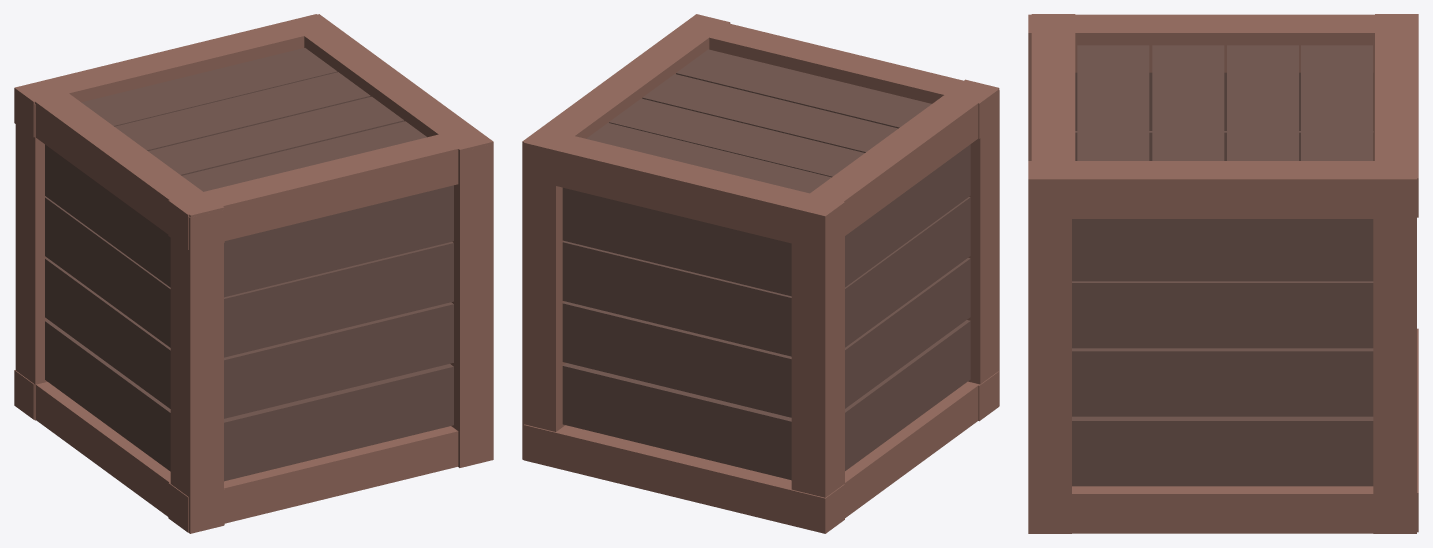
File: western_cube.fbx
3 views of the same model, side by side, from view 1: azimuth 30°, elevation 25°; view 2: azimuth 150°, elevation 25°; view 3: azimuth 270°, elevation 25° (orthographic). The views are drawn at different scales.
Parts seen in each view (by area): view 1: pCube4, pCube21, pCube20, pCube13, pCube19, pCube18, pCube3, pCube12, pCube9, pCube11, pCube25, pCube24 (+10 smaller); view 2: pCube11, pCube17, pCube16, pCube15, pCube10, pCube5, pCube14, pCube9, pCube2, pCube13, pCube25, pCube24 (+10 smaller); view 3: pCube29, pCube28, pCube27, pCube6, pCube26, pCube7, pCube3, pCube2, pCube9, pCube30, pCube31, pCube32 (+4 smaller).
Part boxes in pixels (box(x1,y1,x2,y2)): pCube4: box(170, 209, 223, 533); pCube21: box(224, 364, 453, 481); pCube20: box(224, 302, 453, 418); pCube13: box(168, 133, 458, 249); pCube19: box(224, 242, 453, 357); pCube18: box(224, 185, 453, 297); pCube3: box(450, 144, 493, 467); pCube12: box(168, 426, 458, 532); pCube9: box(17, 80, 224, 242); pCube11: box(14, 14, 328, 137); pCube25: box(45, 320, 170, 471); pCube24: box(45, 258, 170, 408); pCube11: box(523, 136, 844, 251); pCube17: box(562, 363, 791, 480); pCube16: box(562, 301, 791, 417); pCube15: box(562, 241, 791, 356); pCube10: box(523, 424, 844, 533); pCube5: box(791, 237, 844, 497); pCube14: box(562, 187, 791, 296); pCube9: box(791, 79, 999, 235); pCube2: box(522, 144, 565, 459); pCube13: box(680, 16, 998, 138); pCube25: box(845, 320, 970, 470); pCube24: box(845, 258, 970, 408); pCube29: box(1072, 416, 1373, 486); pCube28: box(1072, 348, 1373, 416); pCube27: box(1072, 281, 1373, 348); pCube6: box(1028, 161, 1416, 218); pCube26: box(1072, 219, 1373, 281); pCube7: box(1028, 486, 1416, 533); pCube3: box(1028, 182, 1071, 533); pCube2: box(1373, 182, 1416, 533); pCube9: box(1028, 14, 1416, 72); pCube30: box(1077, 45, 1149, 160); pCube31: box(1152, 45, 1224, 160); pCube32: box(1227, 45, 1298, 160).
Size of the model in its own units: 2.75 by 2.75 by 2.75.
